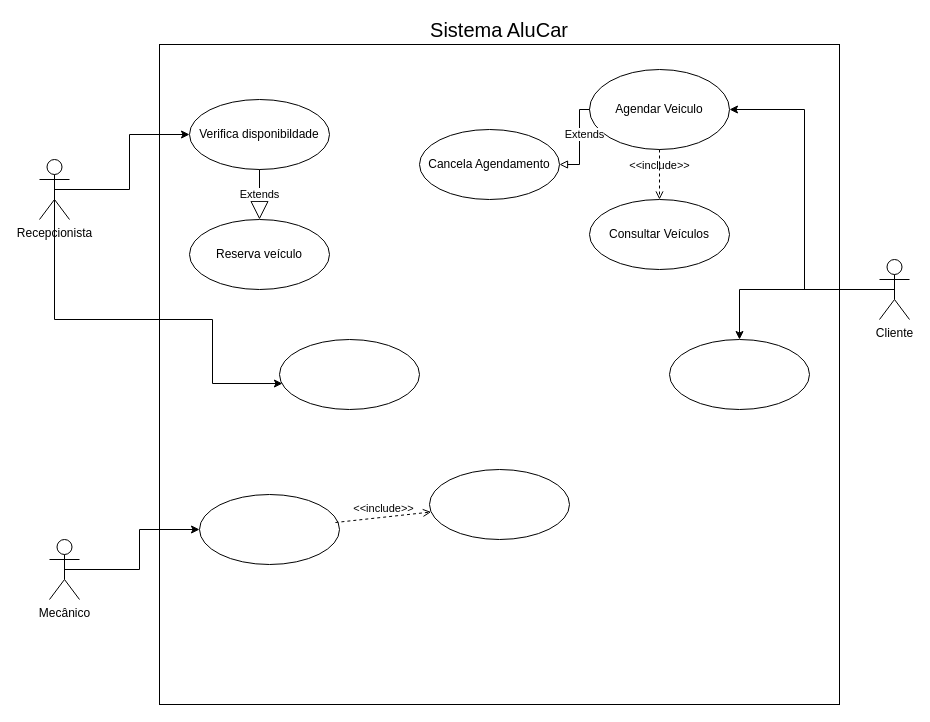
The diagram is 930 pixels wide and 722 high, and some of its shapes have lost their labels. Each missing label, with the centre of its shape:
"Entregar Veículo" goes at (x=499, y=504).
"Registra Devolução" goes at (x=349, y=374).
"Revisar Veículo" goes at (x=269, y=529).
"Vis ualizar histórico" goes at (x=739, y=374).
